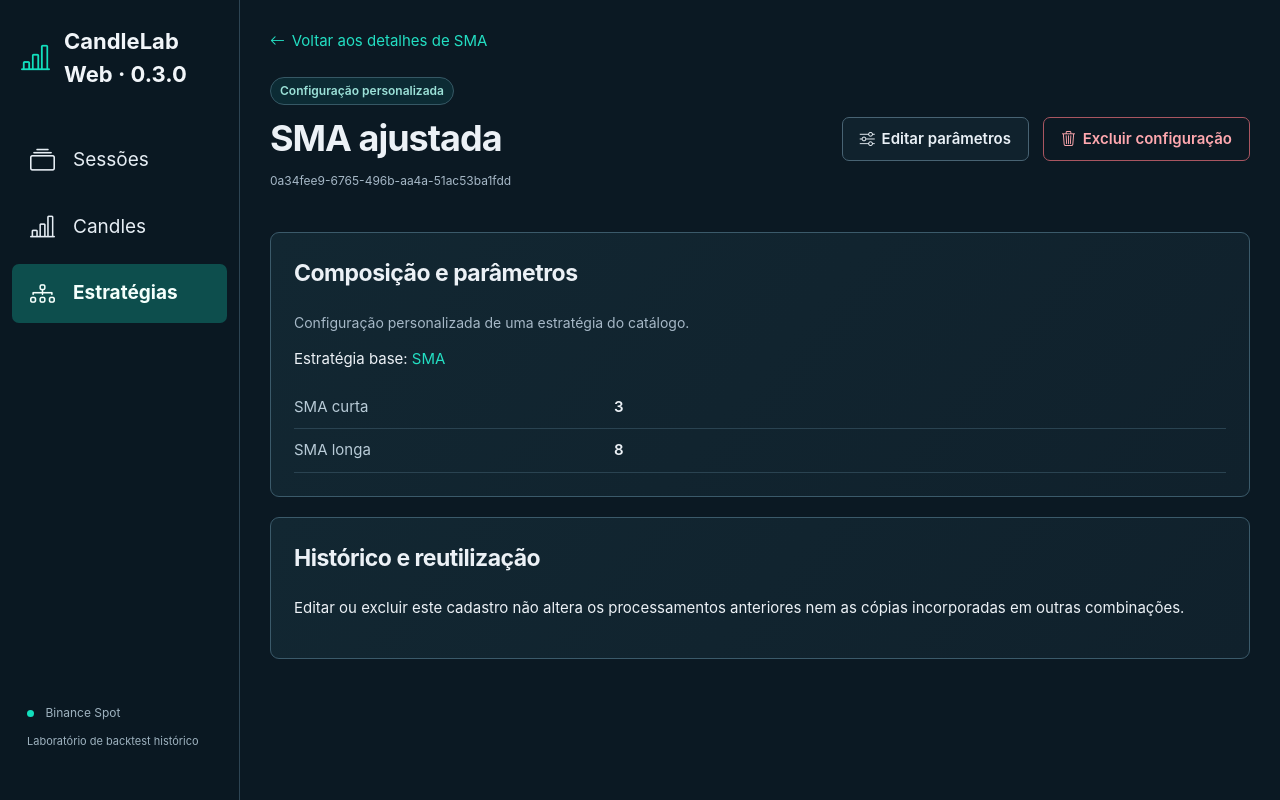
cria, reabre e edita parâmetros sem alterar o catálogo ou o snapshot de execuções
Earlier steps of the test are not shown.
Later steps or results of the test are not shown.
Expected: the heading "SMA ajustada" is shown, [270,116,511,160]
Click the button "Editar parâmetros".
click(935, 139)  # box [842,117,1029,161]
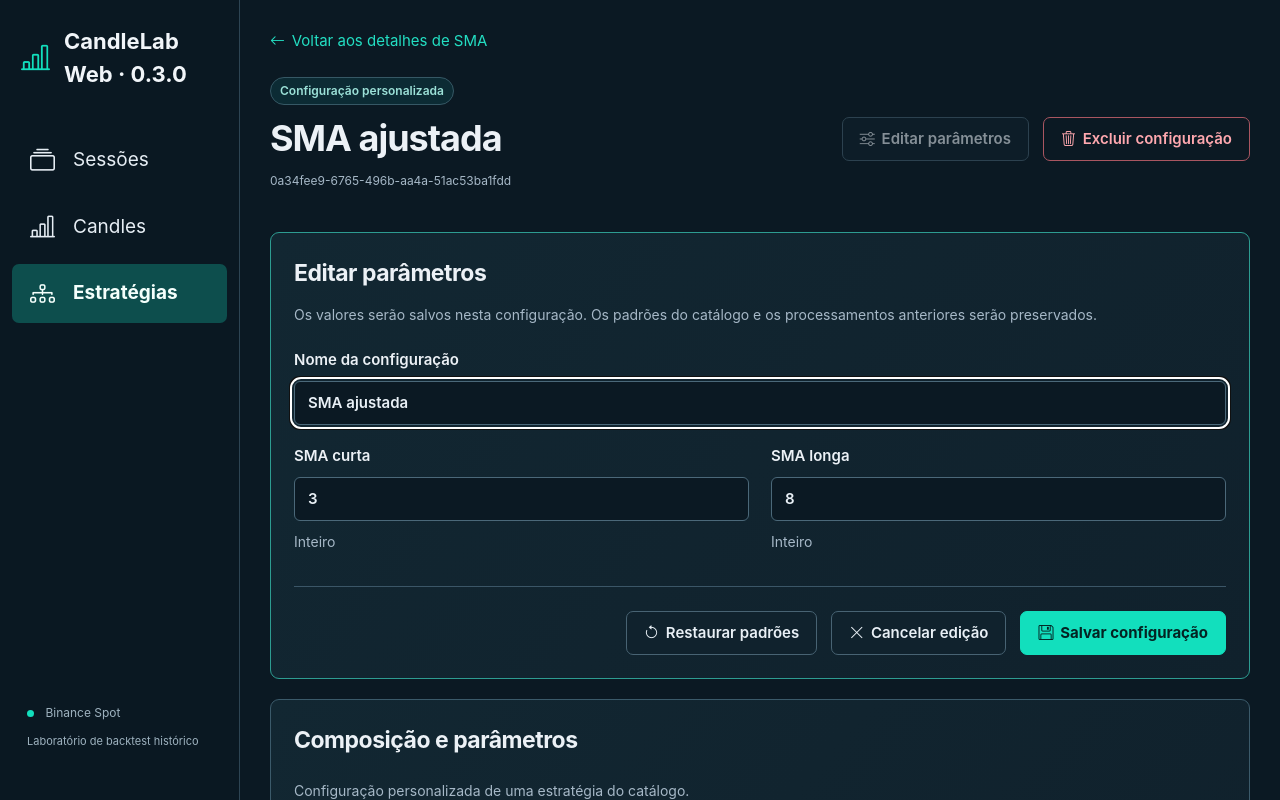
Expected: the field labelled "SMA curta Inteiro" holds "3", [294,477,749,521]
